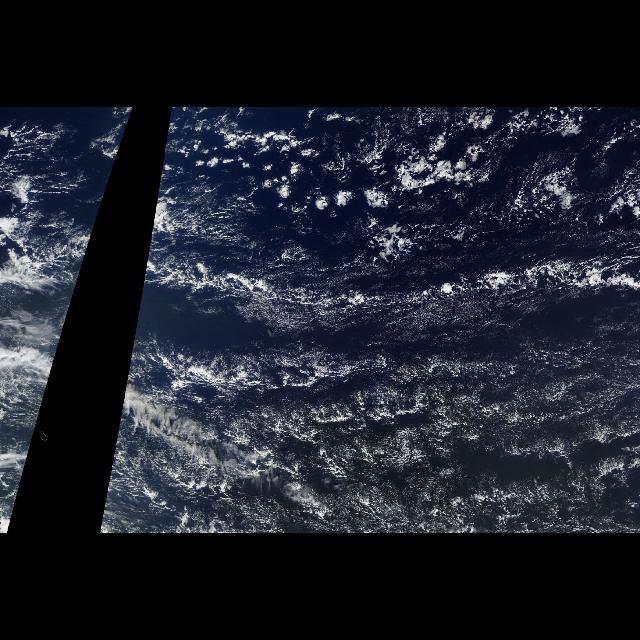Fish: (157, 248, 639, 308)
Sugar: (422, 304, 638, 402)
